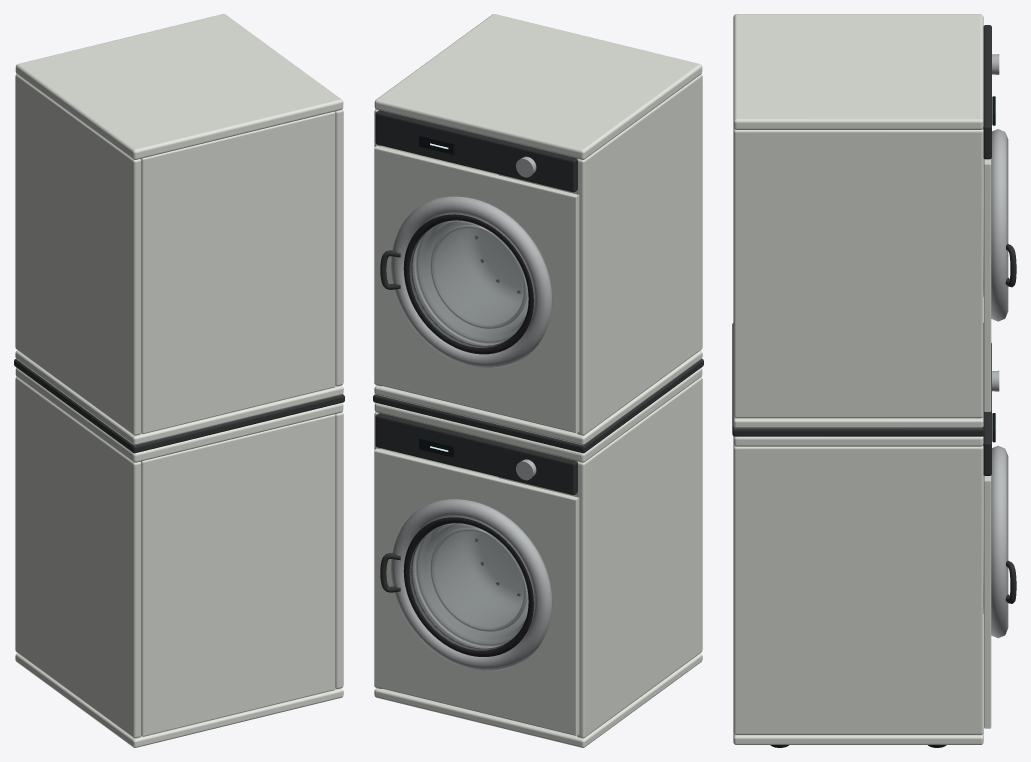
Rendered from residential-laundry-stack.glb.
The picture shows the model from 3 angles, left to right: view 1: azimuth 30°, elevation 25°; view 2: azimuth 150°, elevation 25°; view 3: azimuth 270°, elevation 25°; orthographic projection. The views are drawn at different scales.
Visible parts, largest first — view 1: lacquer_surfaces; view 2: lacquer_surfaces, steel_surfaces, glass_surfaces; view 3: lacquer_surfaces, steel_surfaces.
Boxes of the visible parts, x1,y1,x2,y2 form: lacquer_surfaces: (14, 14, 344, 747); lacquer_surfaces: (373, 14, 703, 747); steel_surfaces: (391, 156, 552, 670); glass_surfaces: (409, 220, 528, 650); lacquer_surfaces: (732, 14, 1016, 747); steel_surfaces: (983, 54, 1008, 638).
Size of the model in its own units: 0.635 by 1.76 by 0.7042.
Materials: 4 (3 with a texture image).
